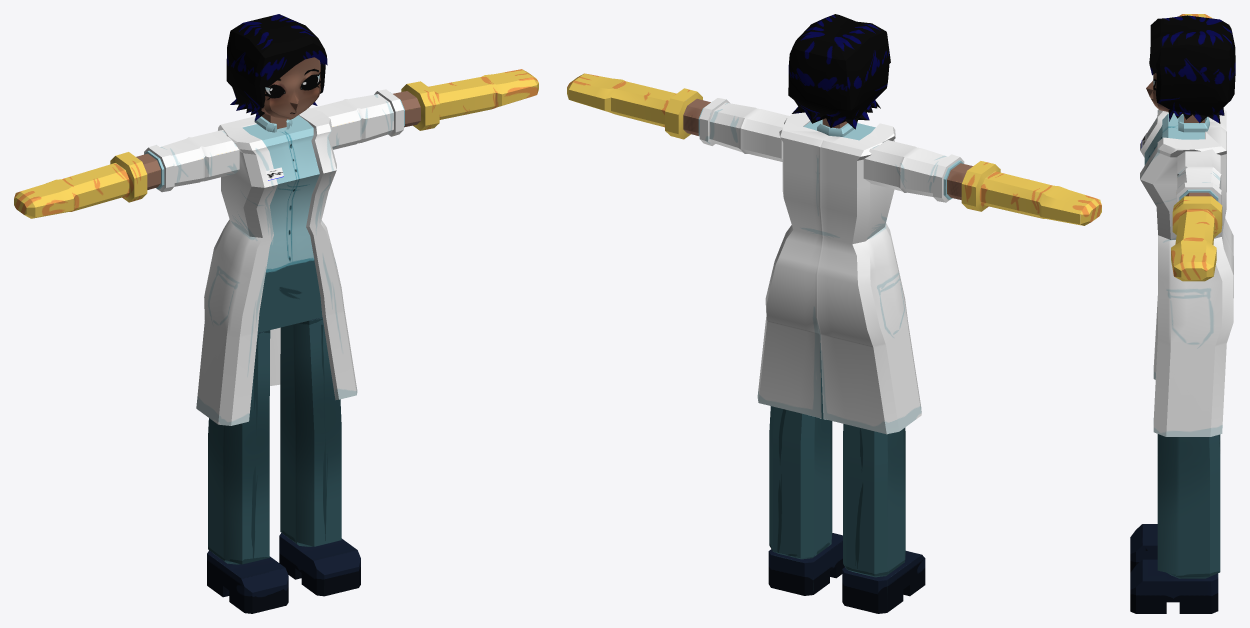
The model's file is MCmodelTXT 1.fbx.
The picture shows the model from 3 angles, left to right: view 1: azimuth 30°, elevation 25°; view 2: azimuth 150°, elevation 25°; view 3: azimuth 270°, elevation 25°; orthographic projection.
Visible parts, largest first — view 1: Torso, Right Leg, Left Leg, Left Arm, Right Arm, Hair, Head; view 2: Torso, Left Leg, Right Leg, Left Arm, Hair, Right Arm; view 3: Torso, Right Leg, Hair, Right Arm, Left Leg, Head.
Boxes of the visible parts, box(x1,y1,x2,y2) form: Torso: box(196, 108, 357, 425); Right Leg: box(279, 317, 360, 596); Left Leg: box(207, 330, 288, 613); Left Arm: box(14, 130, 239, 218); Right Arm: box(311, 69, 538, 149); Hair: box(226, 14, 327, 121); Head: box(261, 57, 320, 119); Torso: box(757, 112, 921, 434); Left Leg: box(842, 424, 925, 613); Right Leg: box(768, 343, 844, 595); Left Arm: box(863, 140, 1101, 225); Hair: box(788, 14, 890, 129); Right Arm: box(567, 73, 788, 161); Torso: box(1140, 109, 1233, 436); Right Leg: box(1130, 434, 1220, 613); Hair: box(1149, 15, 1235, 123); Right Arm: box(1171, 149, 1222, 281); Left Leg: box(1130, 434, 1220, 572); Head: box(1146, 73, 1182, 113).
Bounding box in the file's own units: 2838 × 2932 × 501.
